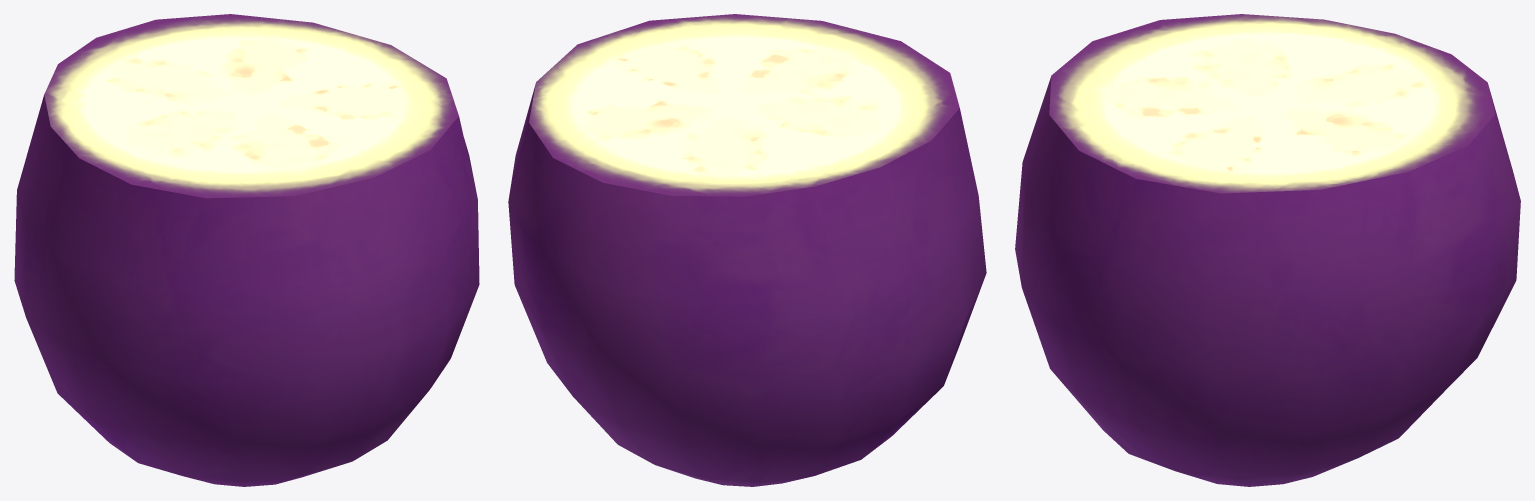
File: eggplant_bottom.glb
3 renders of one model, left to right at view 1: azimuth 30°, elevation 25°; view 2: azimuth 150°, elevation 25°; view 3: azimuth 270°, elevation 25°, orthographic. The views are drawn at different scales.
Parts seen in each view (by area): view 1: EggplantBottomA, EggplantBottomB; view 2: EggplantBottomA, EggplantBottomB; view 3: EggplantBottomA, EggplantBottomB.
Boxes of the visible parts, x1,y1,x2,y2 form: EggplantBottomA: (14,95,479,486); EggplantBottomB: (44,14,458,198); EggplantBottomA: (508,84,986,486); EggplantBottomB: (529,14,959,196); EggplantBottomA: (1015,76,1520,486); EggplantBottomB: (1049,14,1494,193).
Bounding box in the file's own units: 0.8176 × 0.6976 × 0.8756.
1 material, 1 textured.
